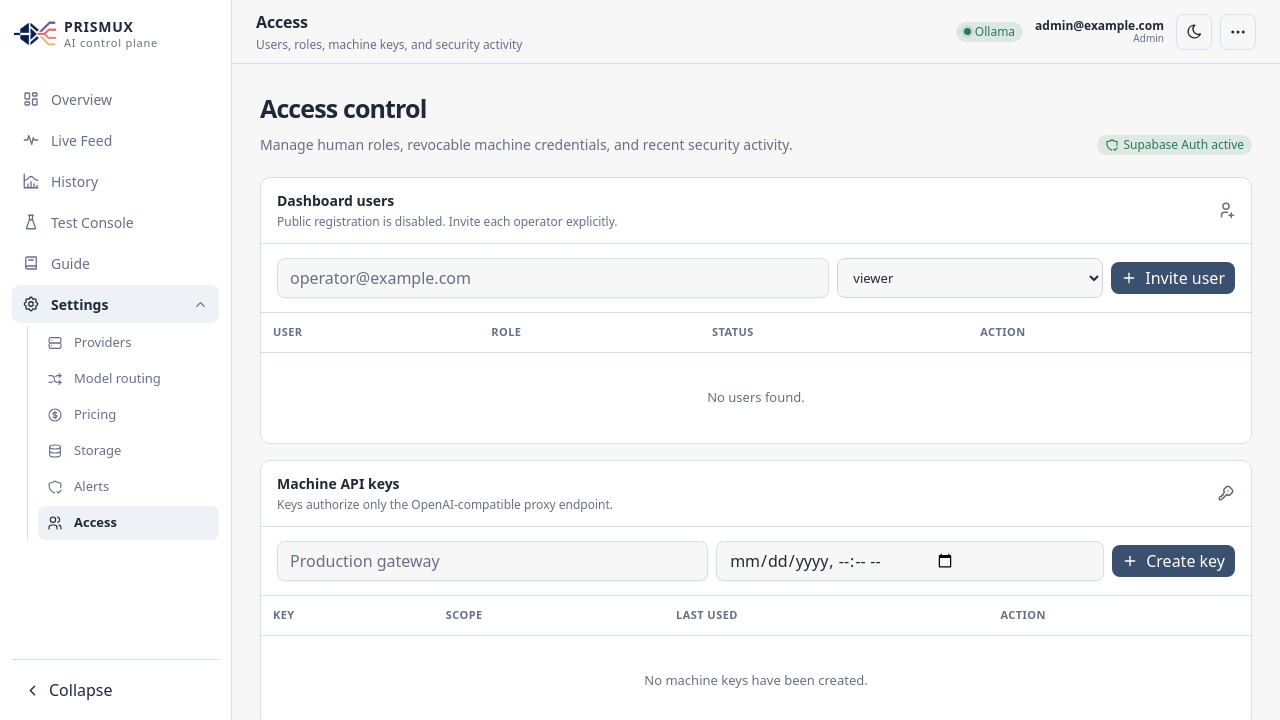
Test case: dashboard application › copies a one-time machine key on plain HTTP using the clipboard fallback
In the field named "Key name": (493, 560) left=277, top=540, right=708, bottom=580, type "Hermes"
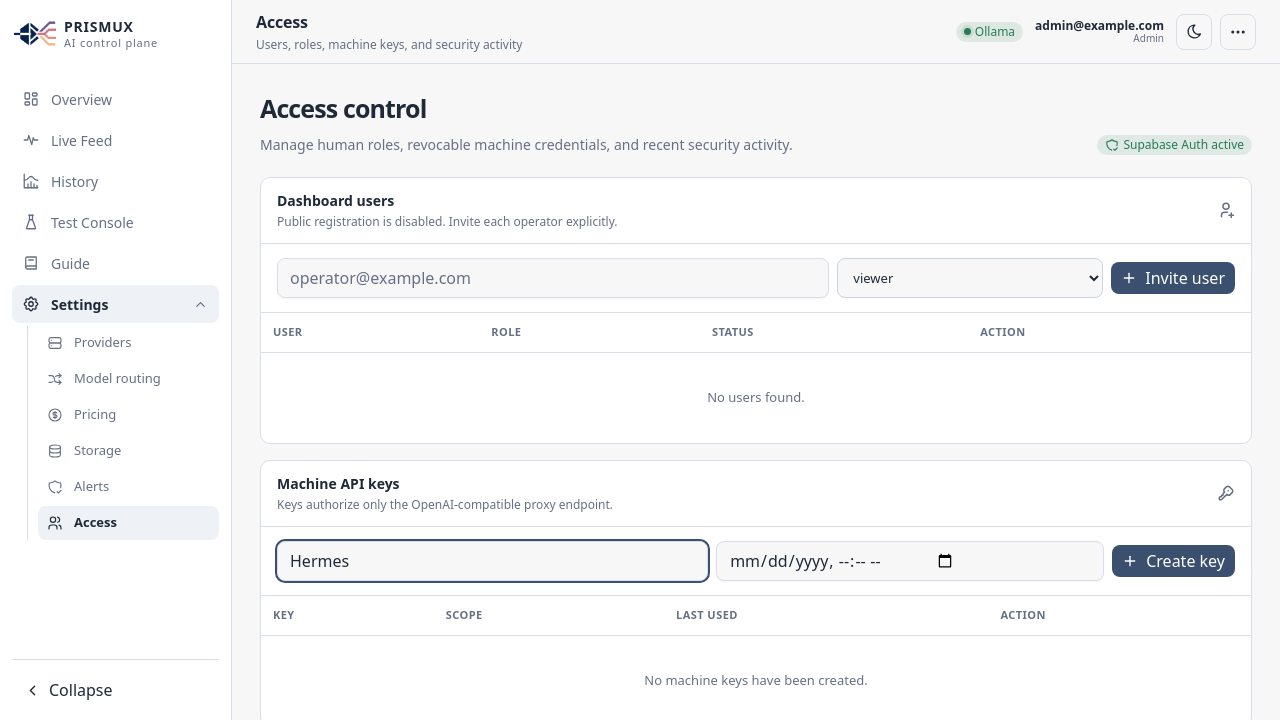
Click the button "Create key": (1174, 560) left=1112, top=544, right=1235, bottom=576
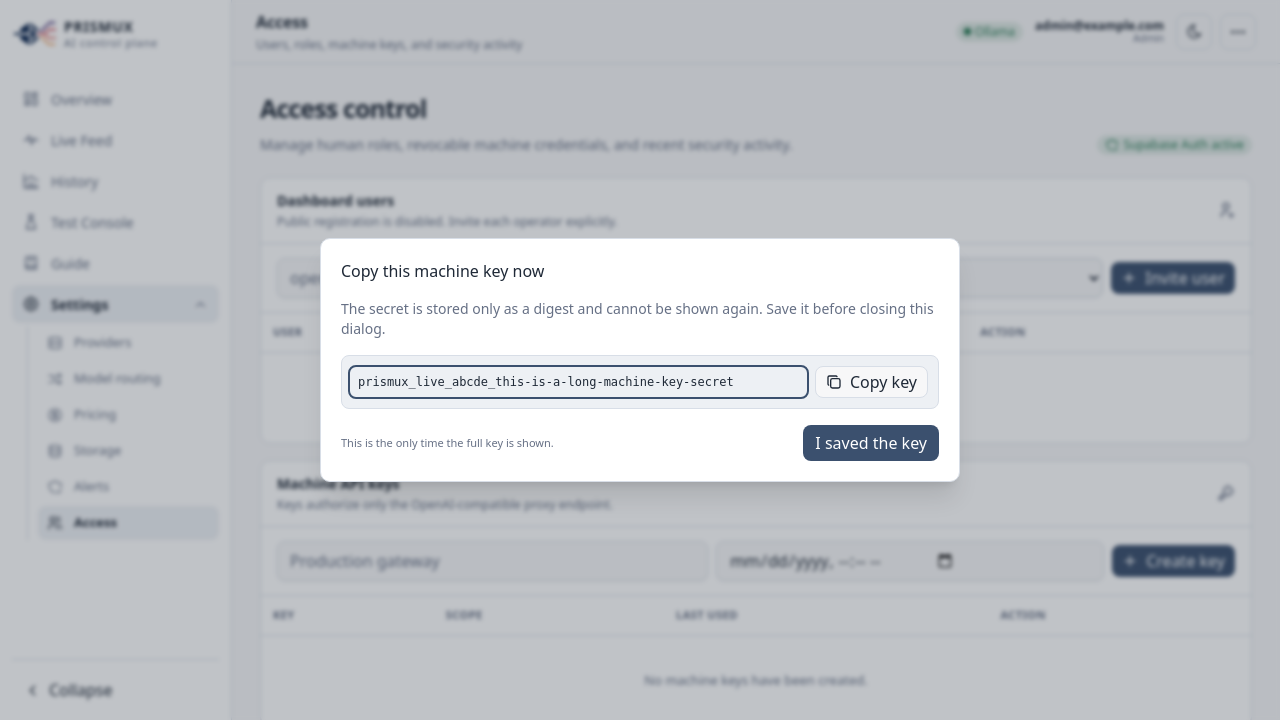
expect the dialog shows "Copy this machine key now": met, box left=341, top=260, right=544, bottom=282
expect the text named "New machine API key" reads "prismux_live_abcde_this-is-a-long-machine-key-secret": met, box left=358, top=375, right=734, bottom=389
Click the button "Copy key": (872, 382) left=815, top=366, right=928, bottom=398
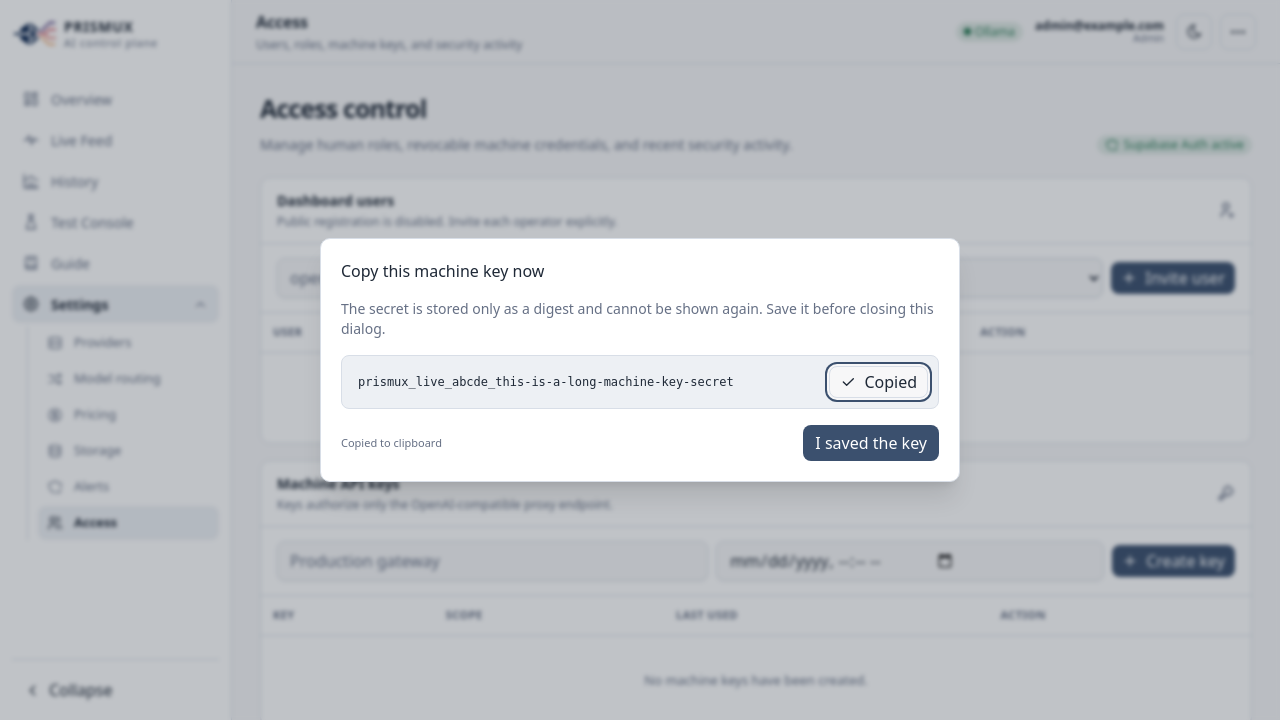
expect the button with aria-label "Key copied" reads "Copied": met, box left=829, top=366, right=928, bottom=398
